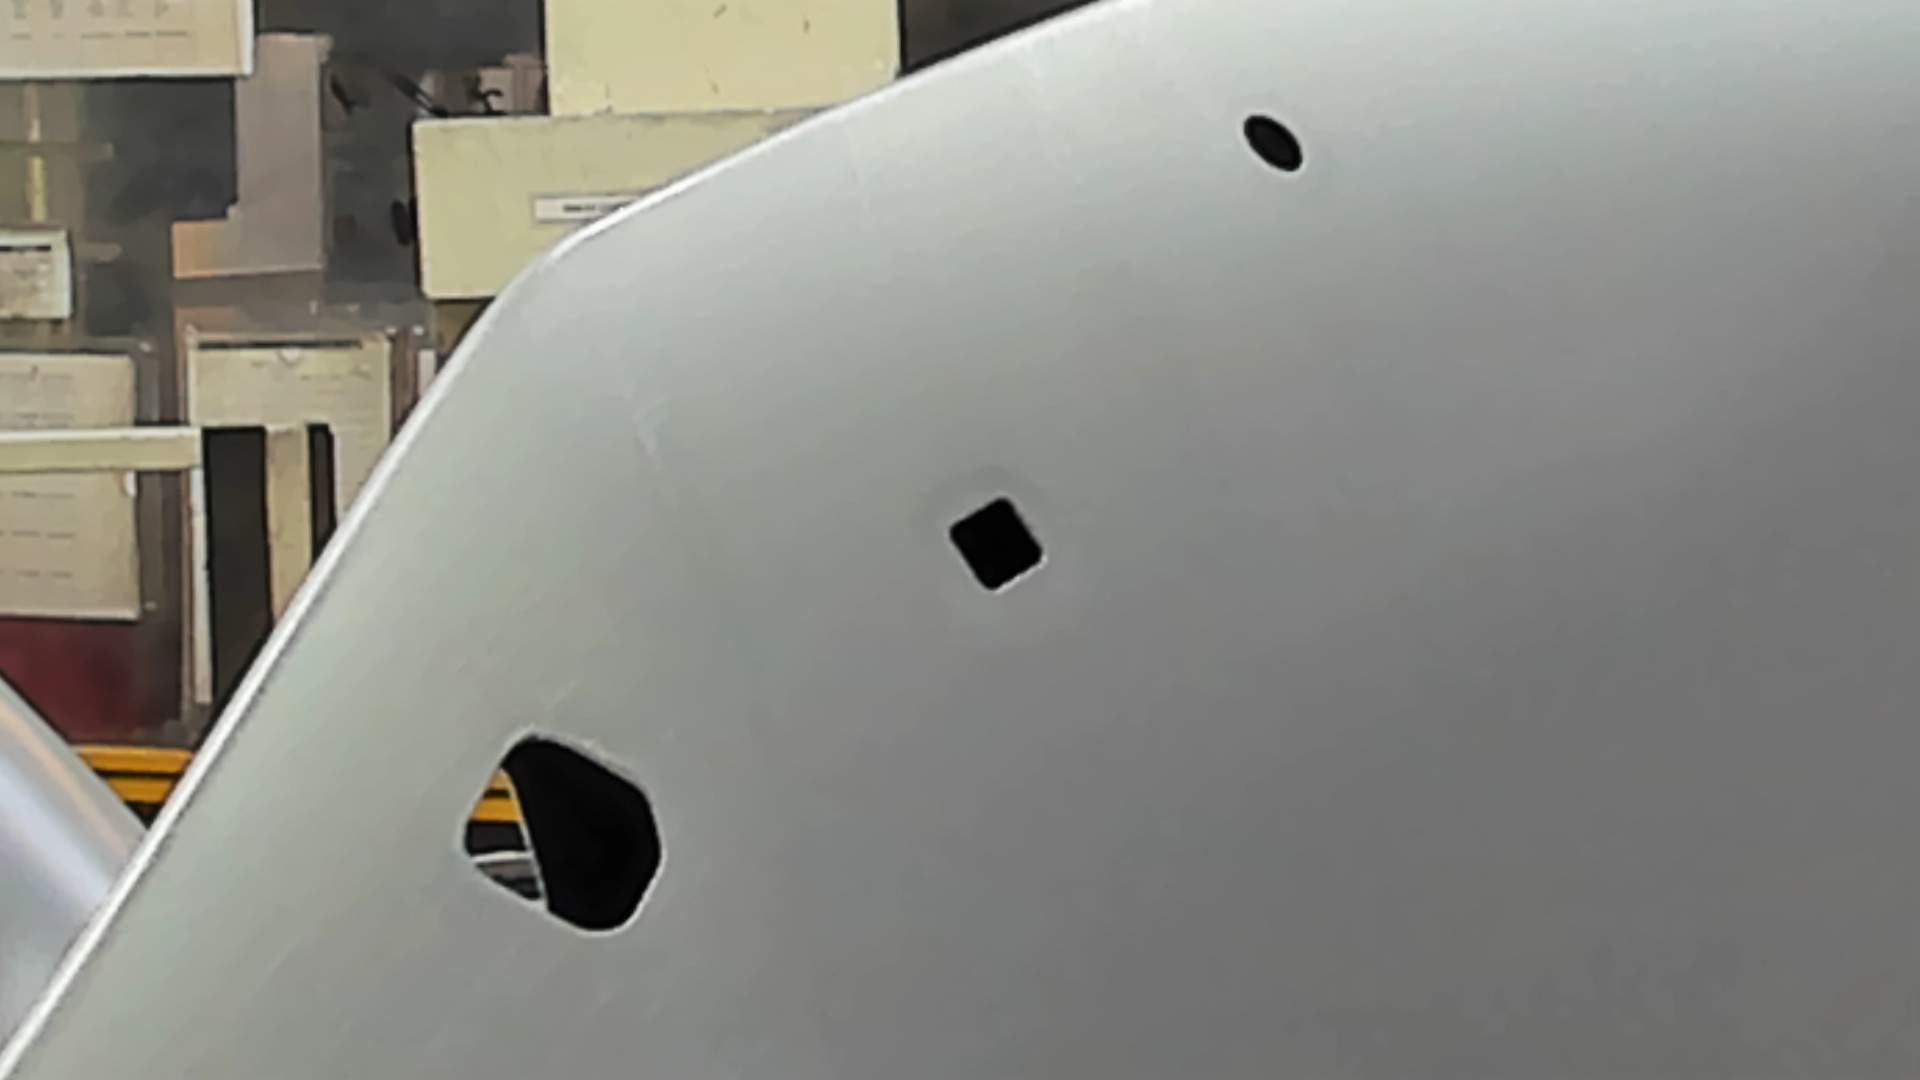chico: (1240, 108, 1309, 178)
grande: (447, 720, 671, 947)
mediano: (939, 487, 1051, 604)
